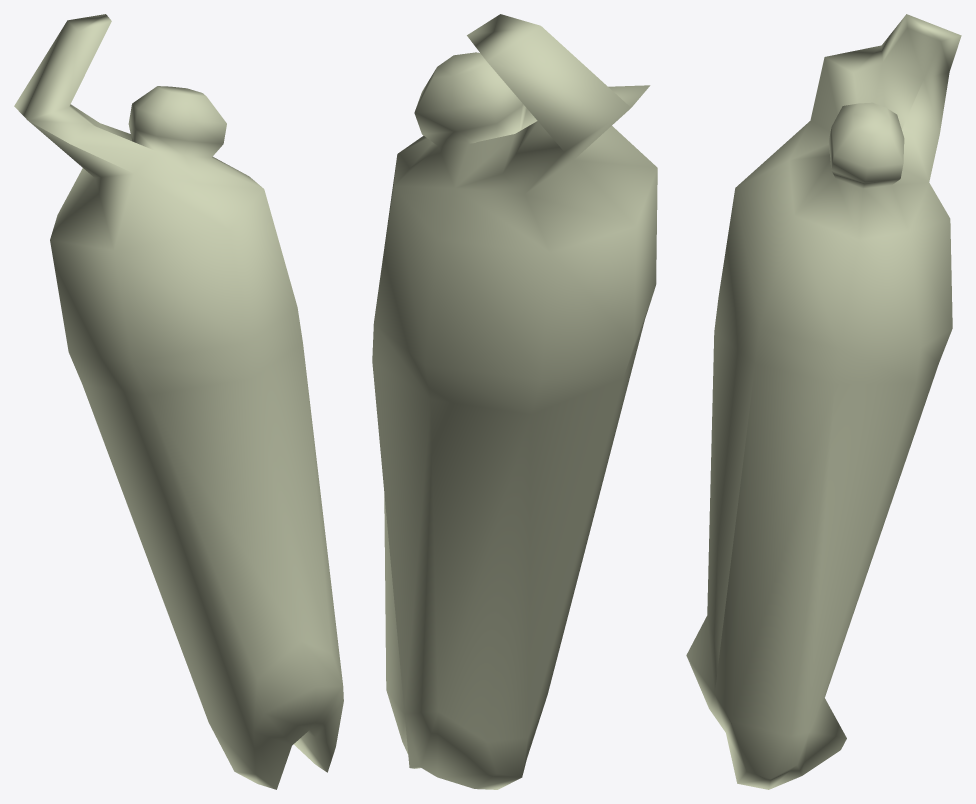
File: anime_robot_right_upper_leg.dae
3 renders of one model, left to right at view 1: azimuth 30°, elevation 25°; view 2: azimuth 150°, elevation 25°; view 3: azimuth 270°, elevation 25°, orthographic. The views are drawn at different scales.
Parts seen in each view (by area): view 1: Cube8_copy16-0; view 2: Cube8_copy16-0; view 3: Cube8_copy16-0.
Part boxes in pixels (x1,y1,x2,y2): Cube8_copy16-0: (14,14,343,789); Cube8_copy16-0: (372,14,657,789); Cube8_copy16-0: (686,14,961,789).
Size of the model in its own units: 1.35 by 3.69 by 1.31.
